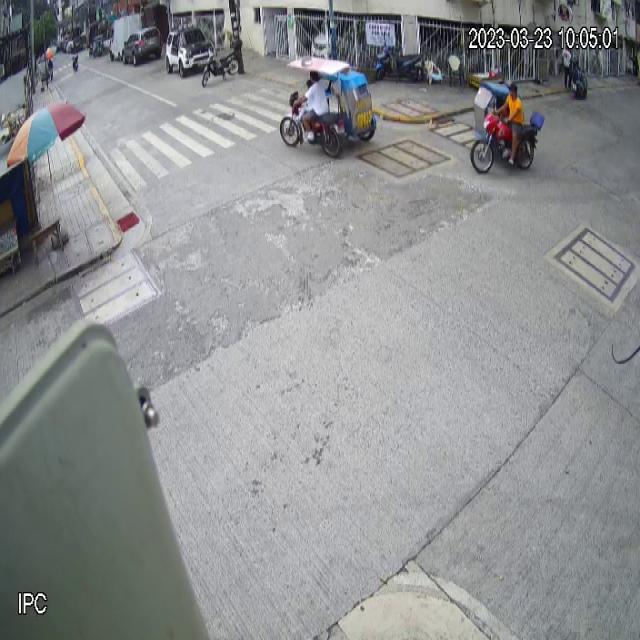Tricycle: (280, 56, 377, 158), (470, 79, 546, 175)
